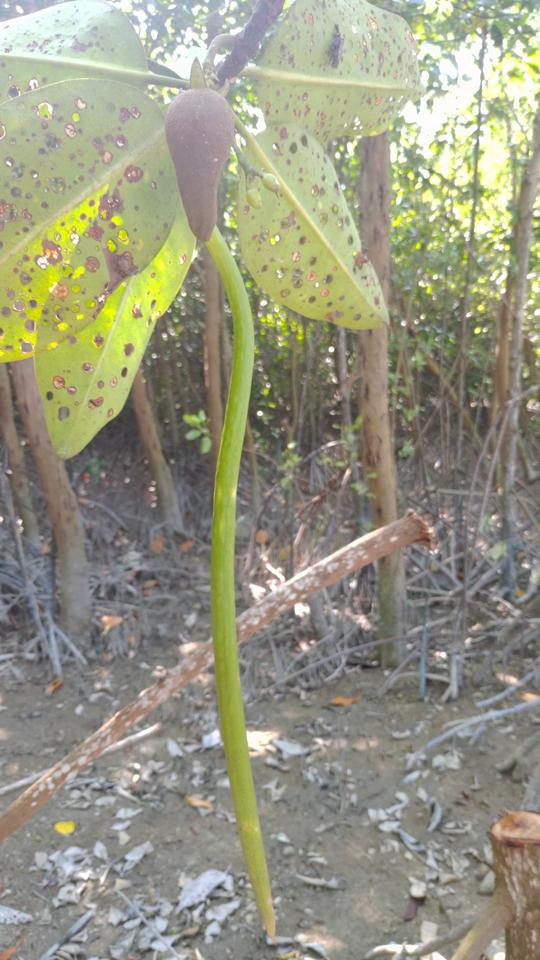mentah: (150, 63, 300, 947)
